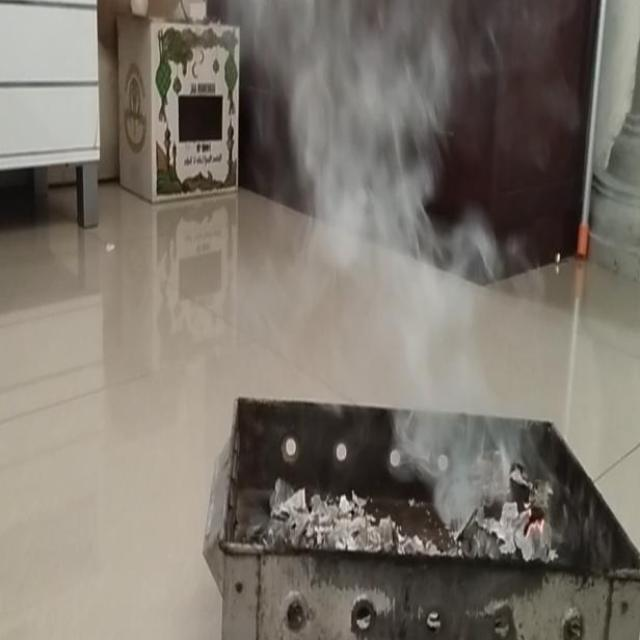fire: (294, 4, 454, 334), (387, 237, 521, 516)
